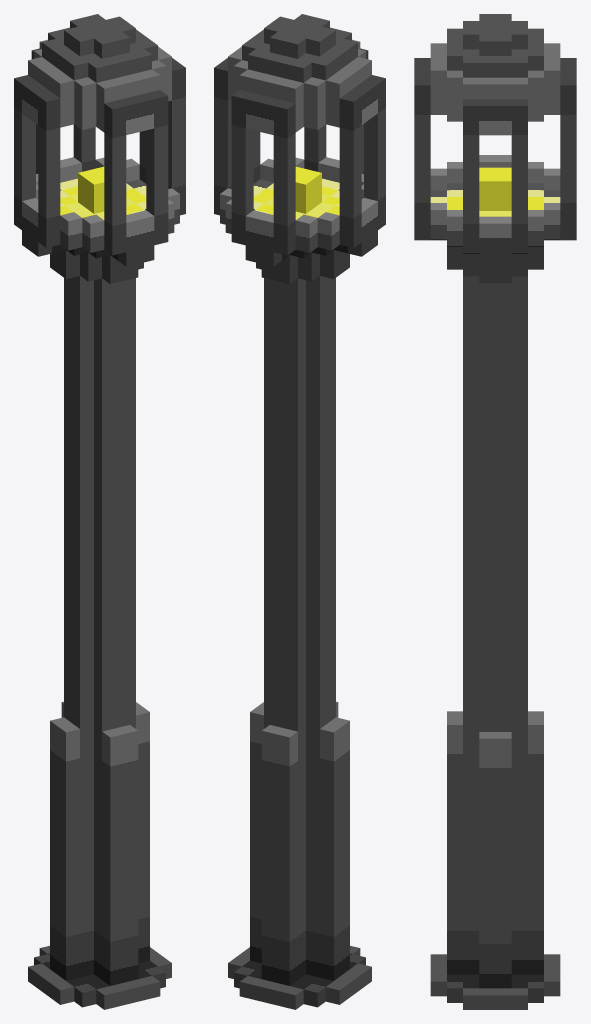
The model's file is lamp.dae.
3 renders of one model, left to right at view 1: azimuth 30°, elevation 25°; view 2: azimuth 150°, elevation 25°; view 3: azimuth 270°, elevation 25°, orthographic.
Parts seen in each view (by area): view 1: lamp; view 2: lamp; view 3: lamp.
Part boxes in pixels (x1=…): lamp: x1=14, y1=14, x2=185, y2=1009; lamp: x1=214, y1=14, x2=385, y2=1009; lamp: x1=414, y1=14, x2=576, y2=1009.
Bounding box in the file's own units: 1 × 1 × 6.5.
Materials: 1 (1 with a texture image).
